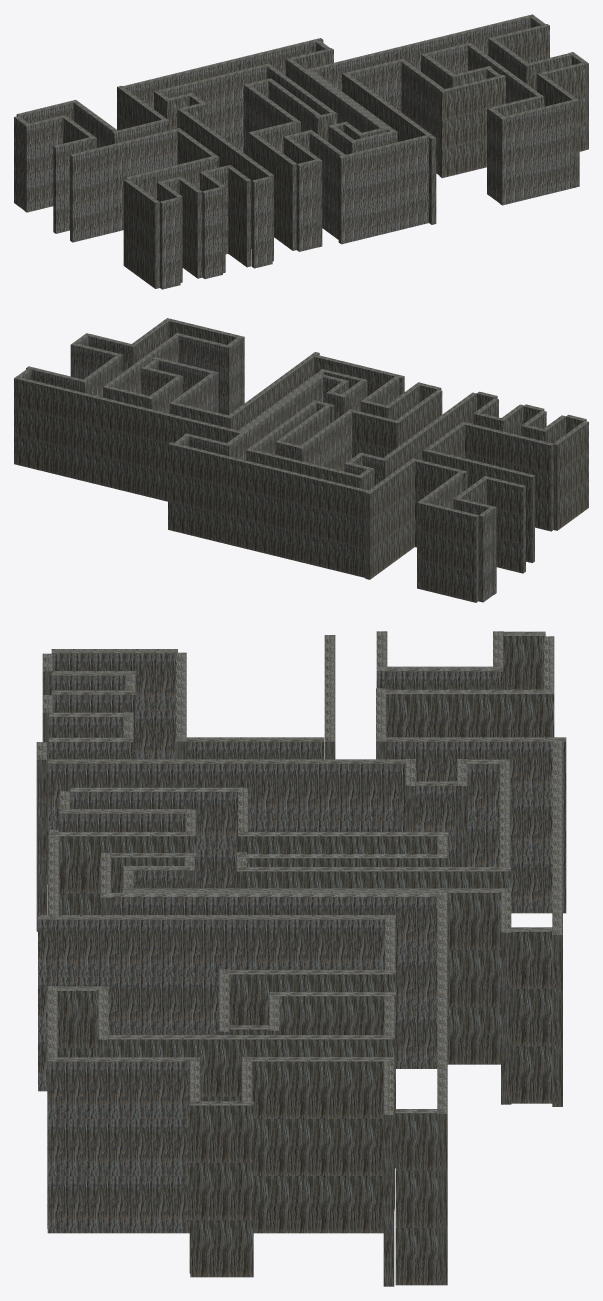
File: tembok-spongebob.glb
The picture shows the model from 3 angles, top to bottom: view 1: azimuth 30°, elevation 25°; view 2: azimuth 150°, elevation 25°; view 3: azimuth 270°, elevation 25°; orthographic projection. The views are drawn at different scales.
Parts seen in each view (by area): view 1: Tembok.019, Tembok.004, Tembok.033, Tembok.012, Tembok.009, Tembok.029, Tembok.043, Tembok.057, Tembok.028, Tembok.017, Tembok.040, Tembok.014 (+46 smaller); view 2: Tembok.028, Tembok.009, Tembok.034, Tembok.031, Tembok.042, Tembok.043, Tembok.054, Tembok.033, Tembok.006, Tembok.068, Tembok.026, Tembok.022 (+36 smaller); view 3: Tembok.040, Tembok, Tembok.008, Tembok.068, Tembok.020, Tembok.031, Tembok.002, Tembok.026, Tembok.007, Tembok.053, Tembok.011, Tembok.059 (+33 smaller).
Part boxes in pixels (bbox=[...]): Tembok.019: bbox=[338, 134, 431, 244]; Tembok.004: bbox=[499, 100, 575, 205]; Tembok.033: bbox=[70, 128, 181, 242]; Tembok.012: bbox=[439, 75, 505, 178]; Tembok.009: bbox=[306, 14, 534, 90]; Tembok.029: bbox=[155, 64, 266, 152]; Tembok.043: bbox=[123, 179, 159, 288]; Tembok.057: bbox=[24, 116, 63, 212]; Tembok.028: bbox=[123, 38, 323, 108]; Tembok.017: bbox=[250, 133, 296, 250]; Tembok.040: bbox=[342, 72, 436, 224]; Tembok.014: bbox=[399, 59, 443, 175]; Tembok.028: bbox=[168, 442, 370, 577]; Tembok.009: bbox=[14, 376, 243, 501]; Tembok.034: bbox=[421, 502, 478, 602]; Tembok.031: bbox=[365, 458, 416, 579]; Tembok.042: bbox=[460, 421, 553, 531]; Tembok.043: bbox=[553, 421, 588, 530]; Tembok.054: bbox=[487, 477, 525, 573]; Tembok.033: bbox=[423, 449, 534, 562]; Tembok.006: bbox=[175, 333, 231, 415]; Tembok.068: bbox=[383, 392, 476, 476]; Tembok.026: bbox=[227, 374, 325, 460]; Tembok.022: bbox=[297, 409, 354, 471]; Tembok.040: bbox=[38, 915, 395, 1091]; Tembok: bbox=[47, 1057, 194, 1233]; Tembok.008: bbox=[247, 1057, 394, 1233]; Tembok.068: bbox=[47, 759, 405, 914]; Tembok.020: bbox=[103, 892, 439, 1068]; Tembok.031: bbox=[376, 737, 566, 913]; Tembok.002: bbox=[190, 1101, 253, 1277]; Tembok.026: bbox=[122, 888, 501, 1064]; Tembok.007: bbox=[100, 1035, 394, 1210]; Tembok.053: bbox=[386, 689, 554, 737]; Tembok.011: bbox=[395, 1109, 437, 1285]; Tembok.059: bbox=[510, 927, 552, 1103].
Size of the model in its own units: 54.32 by 9.01 by 25.13.
Materials: 69 (69 with a texture image).
